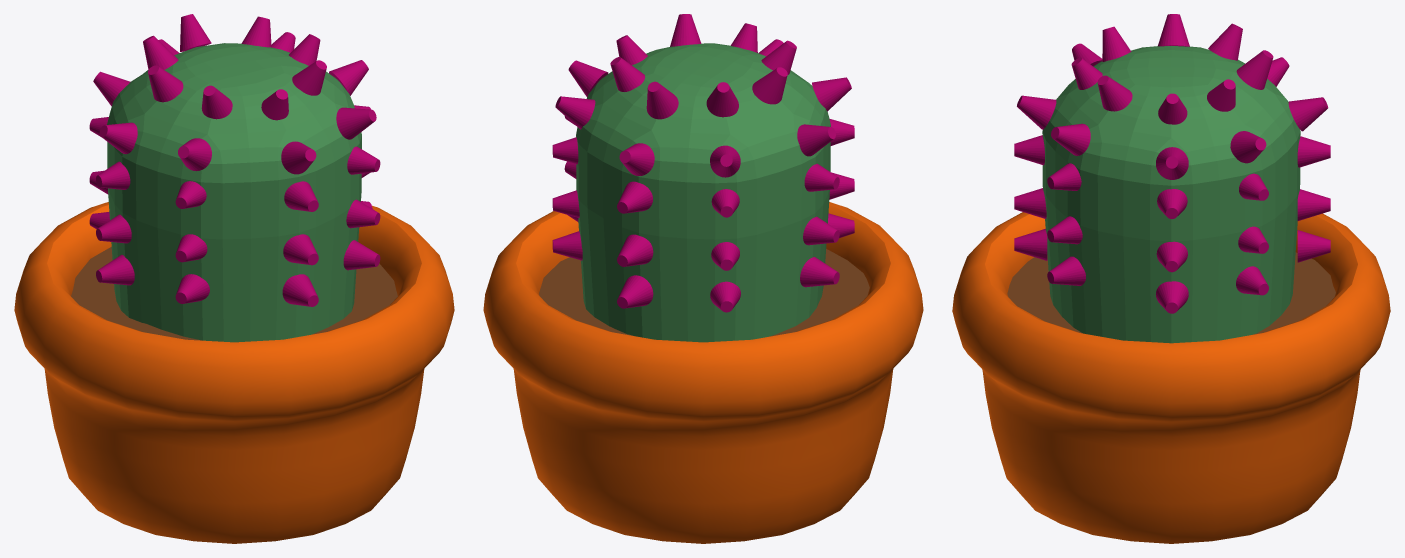
3 views of the same model, side by side, from view 1: azimuth 30°, elevation 25°; view 2: azimuth 150°, elevation 25°; view 3: azimuth 270°, elevation 25° (orthographic).
Visible parts, largest first — view 1: pot, cactus, Cylinder, dirt; view 2: pot, cactus, Cylinder, dirt; view 3: pot, cactus, Cylinder, dirt.
Part boxes in pixels (x1,y1,x2,y2): pot: [14, 202, 454, 543]; cactus: [107, 43, 361, 342]; Cylinder: [89, 14, 380, 306]; dirt: [71, 247, 397, 340]; pot: [483, 202, 923, 543]; cactus: [576, 43, 830, 342]; Cylinder: [552, 14, 854, 312]; dirt: [539, 249, 869, 336]; pot: [952, 212, 1390, 543]; cactus: [1042, 46, 1300, 343]; Cylinder: [1014, 14, 1330, 313]; dirt: [1007, 252, 1335, 334].
Bounding box in the file's own units: 2.49 × 2.74 × 2.49.
